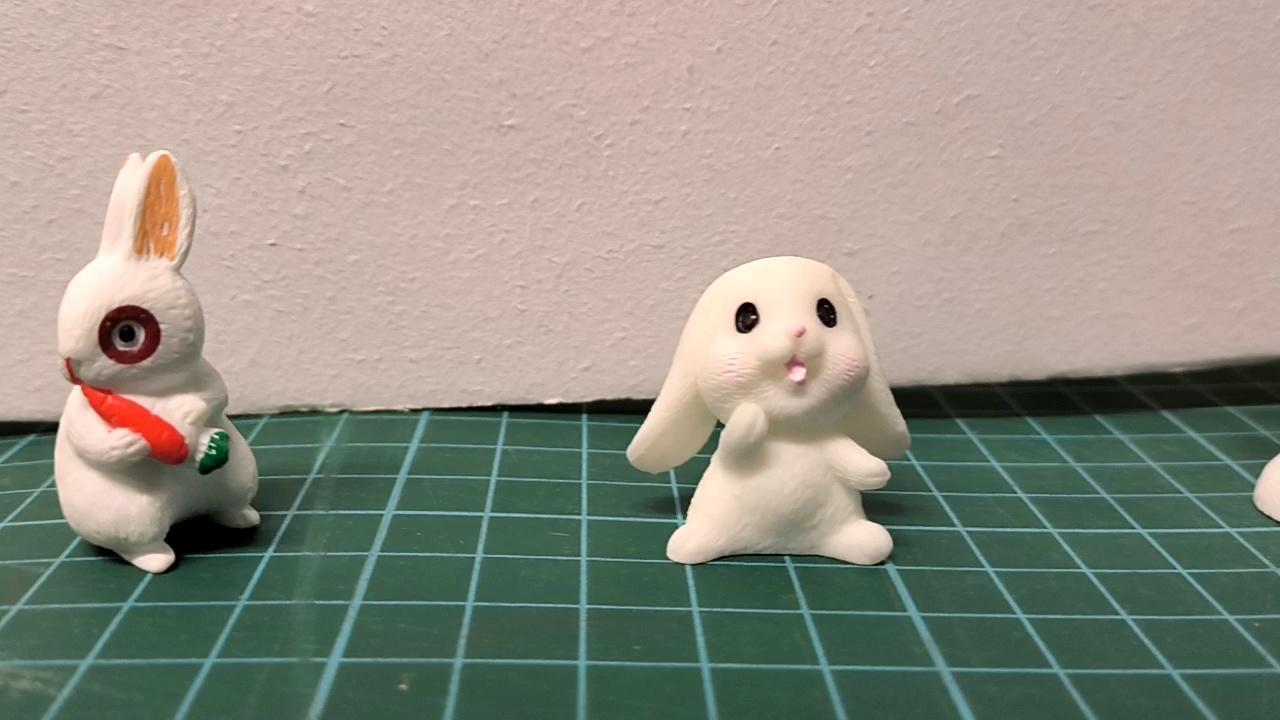pet: (53, 151, 261, 571), (627, 256, 910, 562)
